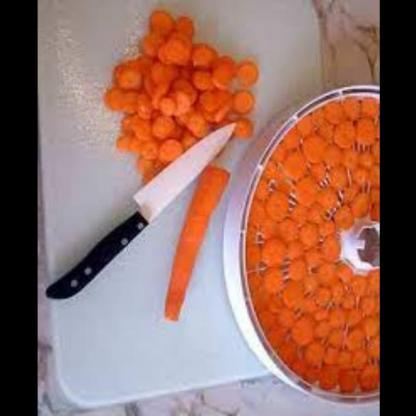carrot: (254, 123, 380, 368), (96, 7, 268, 170), (154, 148, 233, 326)
